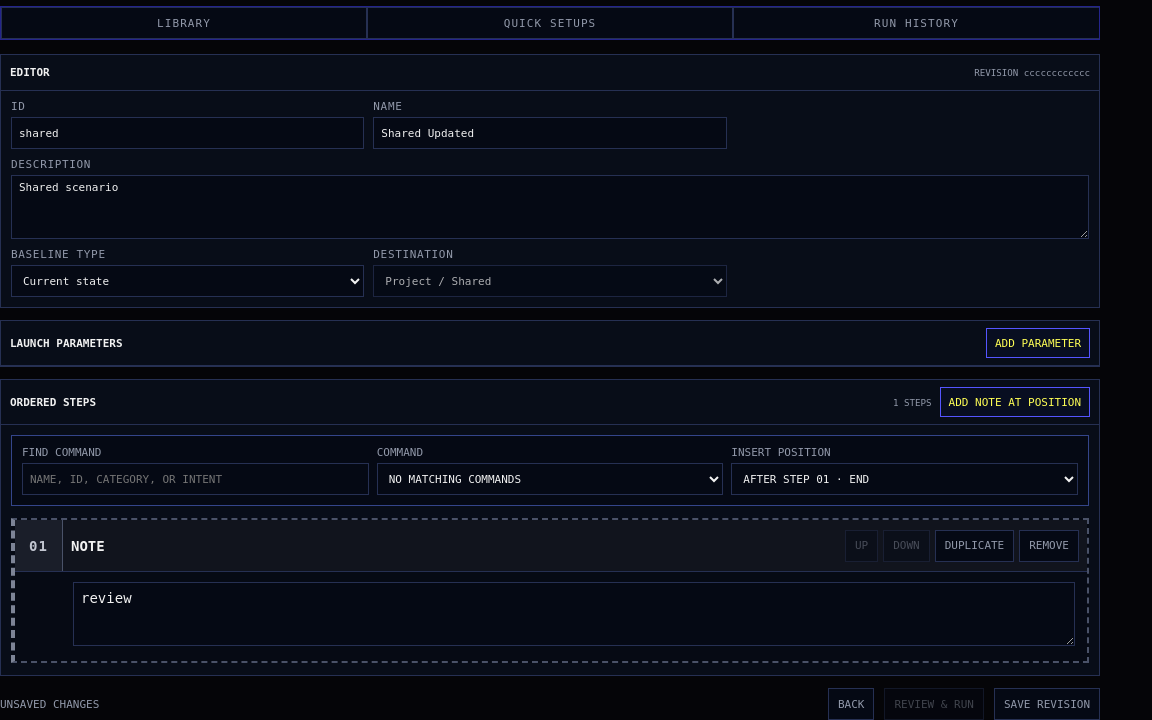
it: Scenarios workspace › requires a stronger review before updating a shared project revision
(page scrolled)
Click the button "SAVE REVISION" at (1047, 704), box left=994, top=688, right=1100, bottom=719
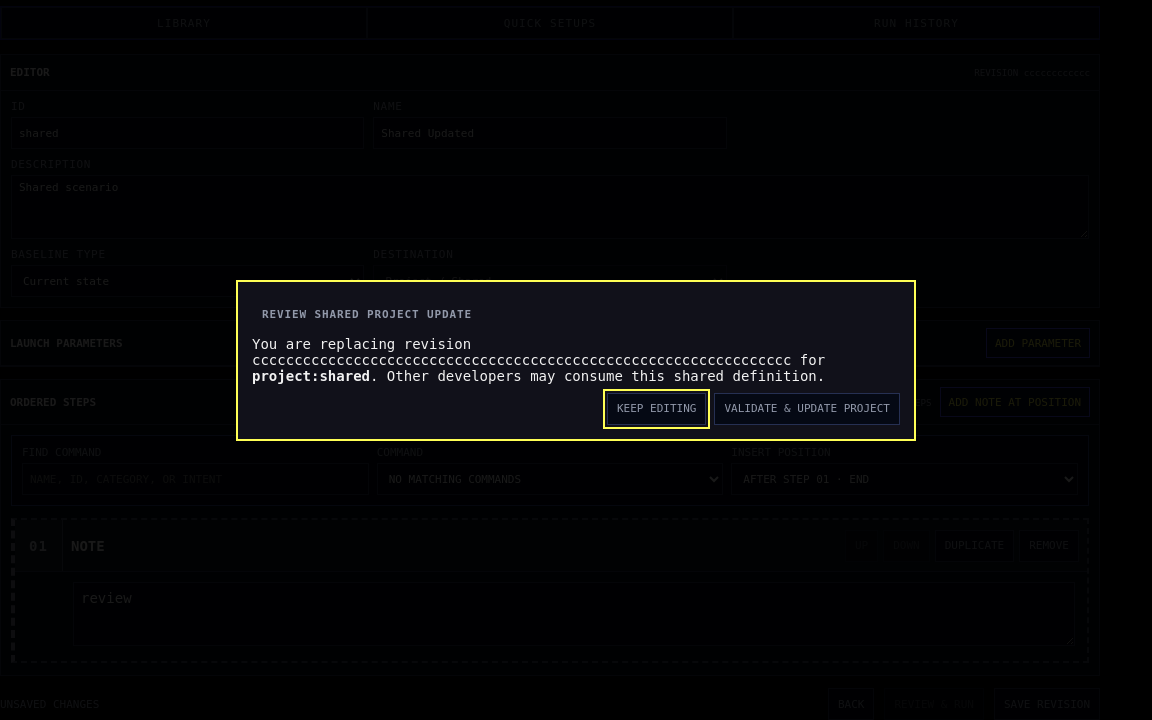
Check: the dialog shows "REVIEW SHARED PROJECT UPDATE", box left=262, top=308, right=472, bottom=320
Check: the dialog shows "project:shared", box left=252, top=368, right=370, bottom=384
